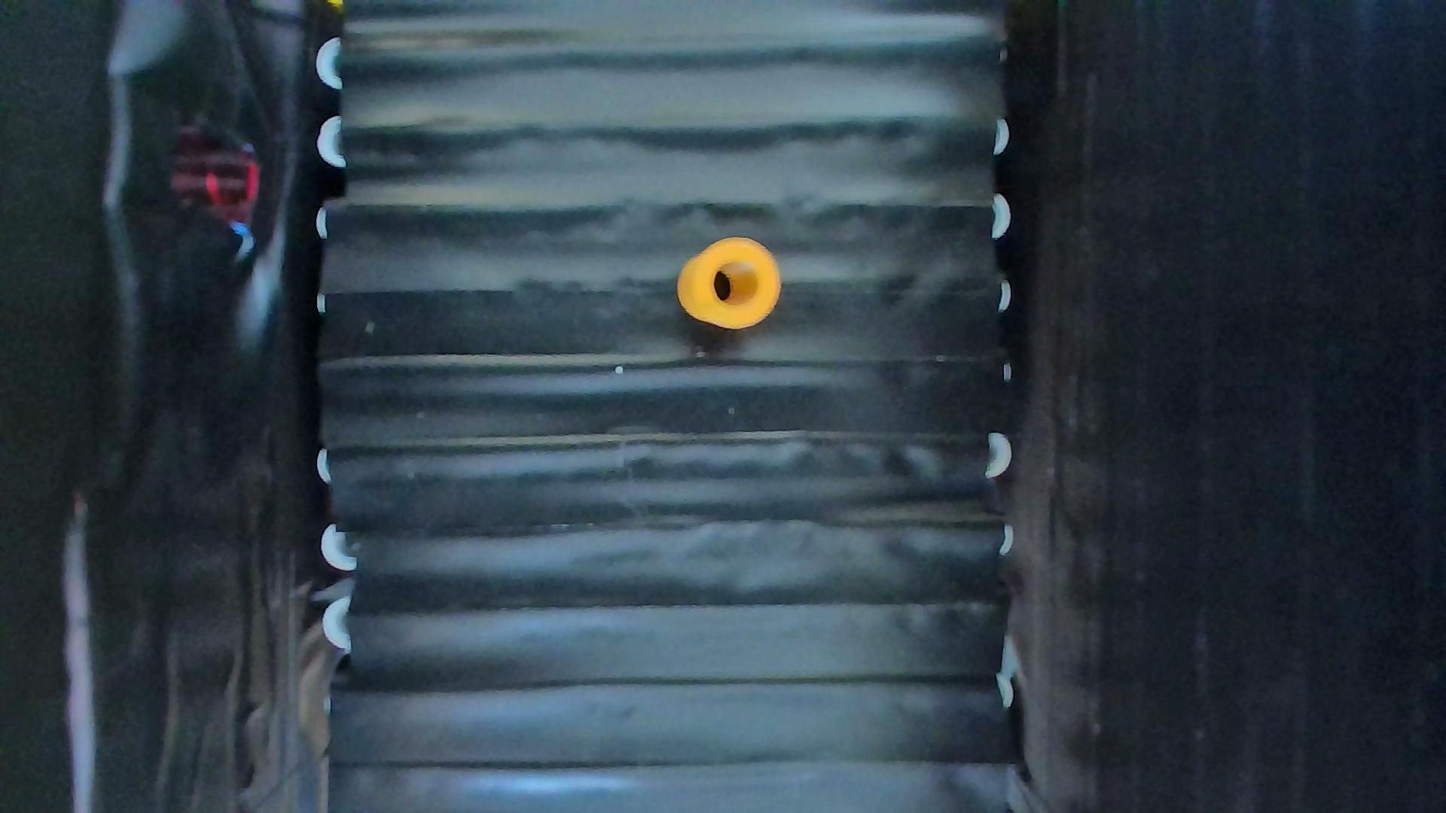spring: (676, 237, 782, 329)
